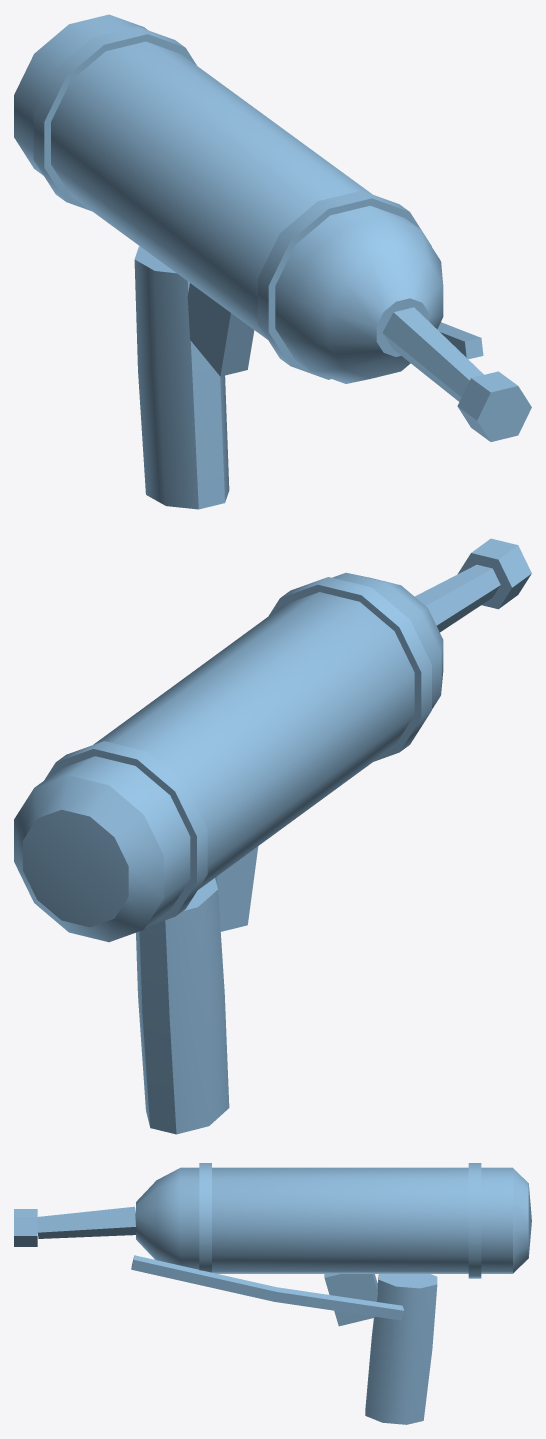
The model's file is spray.glb.
3 renders of one model, top to bottom at view 1: azimuth 30°, elevation 25°; view 2: azimuth 150°, elevation 25°; view 3: azimuth 270°, elevation 25°, orthographic. The views are drawn at different scales.
Parts seen in each view (by area): view 1: spray; view 2: spray; view 3: spray.
Boxes of the visible parts, x1,y1,x2,y2 form: spray: [14, 14, 531, 509]; spray: [14, 538, 531, 1134]; spray: [14, 1163, 531, 1424].
Size of the model in its own units: 0.0743 by 0.1724 by 0.327.
